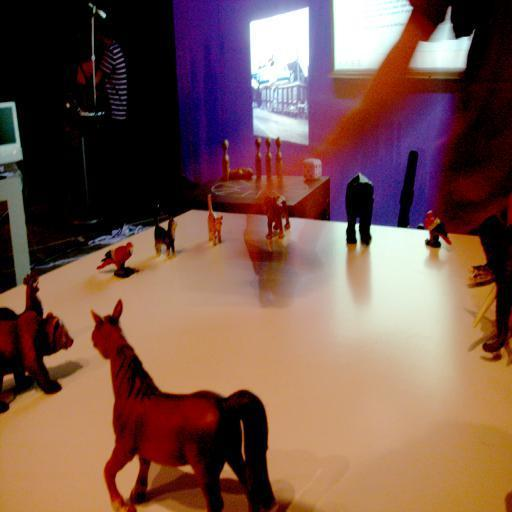horse: (86, 298, 276, 512)
